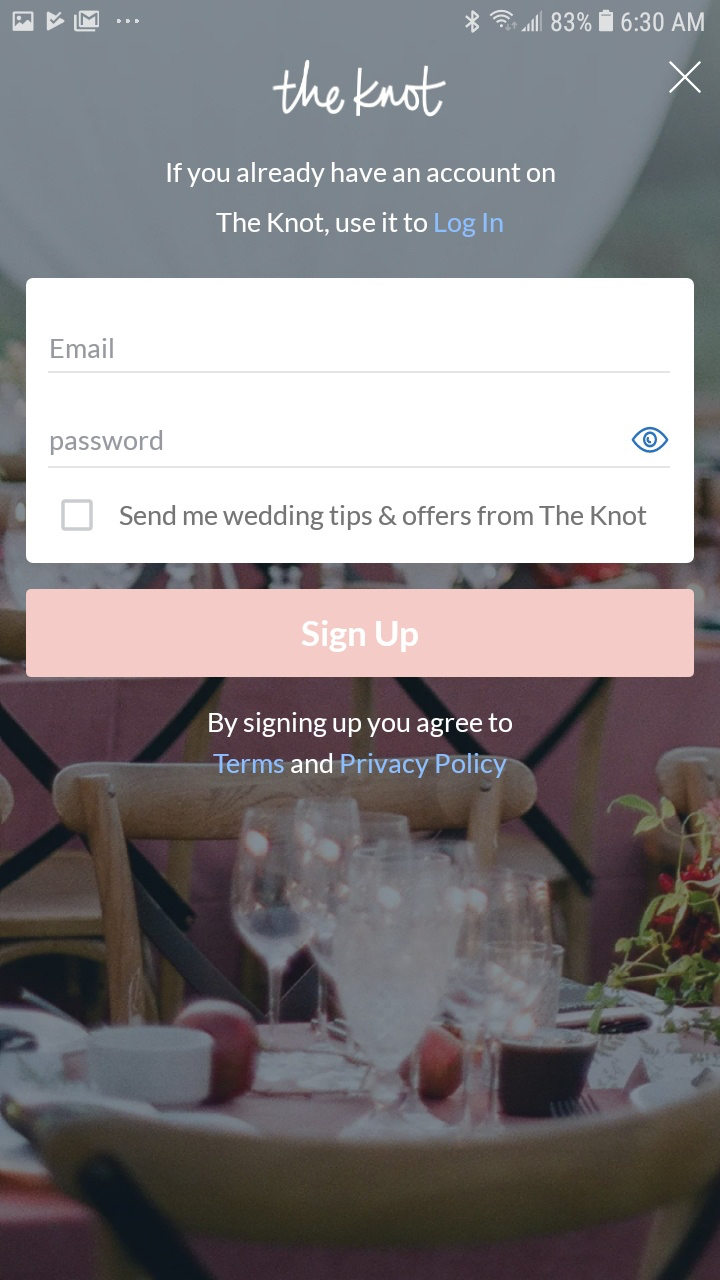BackgroundImage: (1, 36, 720, 1280)
CheckedTextView: (61, 498, 648, 532)
EditText: (48, 427, 671, 469), (48, 338, 671, 375)
Icon: (668, 61, 702, 95), (631, 427, 669, 455)
Image: (272, 60, 447, 118)
Text: (121, 504, 648, 531), (167, 163, 556, 189), (209, 711, 513, 738), (213, 752, 508, 779), (216, 212, 504, 239), (51, 430, 163, 456), (51, 338, 114, 359)
TextButton: (26, 589, 694, 678)
UpperTaskBar: (1, 1, 720, 36)
